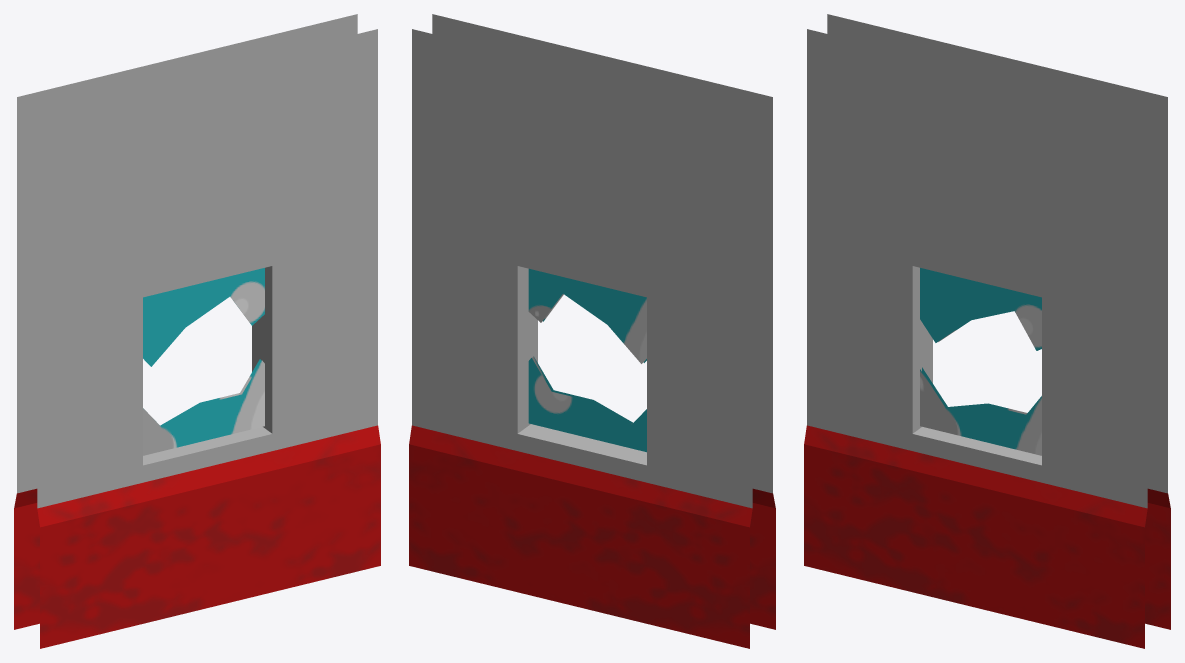
Rendered from ParedeJanela.fbx.
3 renders of one model, left to right at view 1: azimuth 30°, elevation 25°; view 2: azimuth 150°, elevation 25°; view 3: azimuth 330°, elevation 25°, orthographic.
Parts seen in each view (by area): view 1: ParedeJanela; view 2: ParedeJanela; view 3: ParedeJanela.
Part boxes in pixels (box(x1,y1,x2,y2)): ParedeJanela: box(14, 14, 380, 648); ParedeJanela: box(409, 14, 775, 648); ParedeJanela: box(804, 14, 1170, 648).
Bounding box in the file's own units: 258 × 386 × 34.
